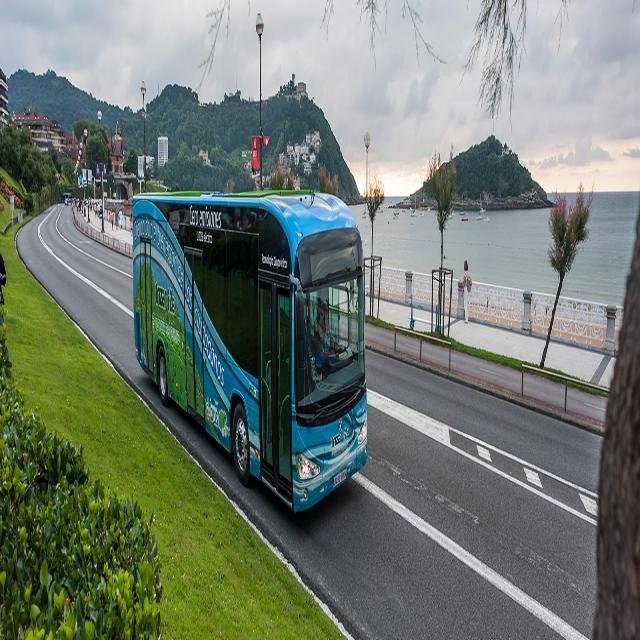Bus: (129, 189, 369, 511)
Tree: (541, 181, 594, 367), (427, 143, 457, 266)
